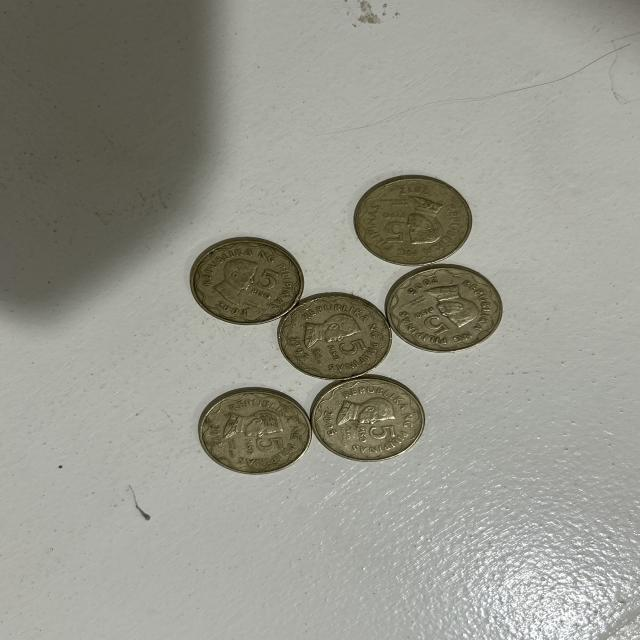5_Old_Front: (321, 332, 366, 367), (409, 304, 451, 341), (234, 436, 292, 461), (375, 207, 407, 249), (245, 268, 281, 301), (355, 421, 401, 446)
